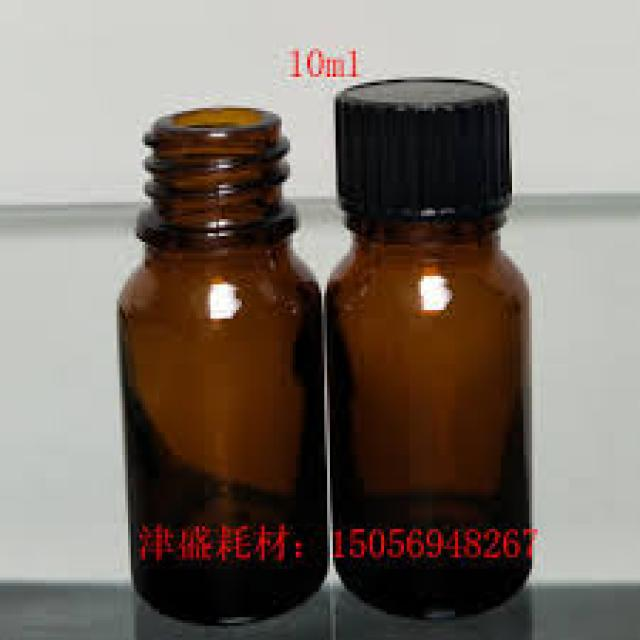glass: (111, 102, 327, 626), (318, 211, 532, 620)
plastic: (333, 74, 509, 225)
